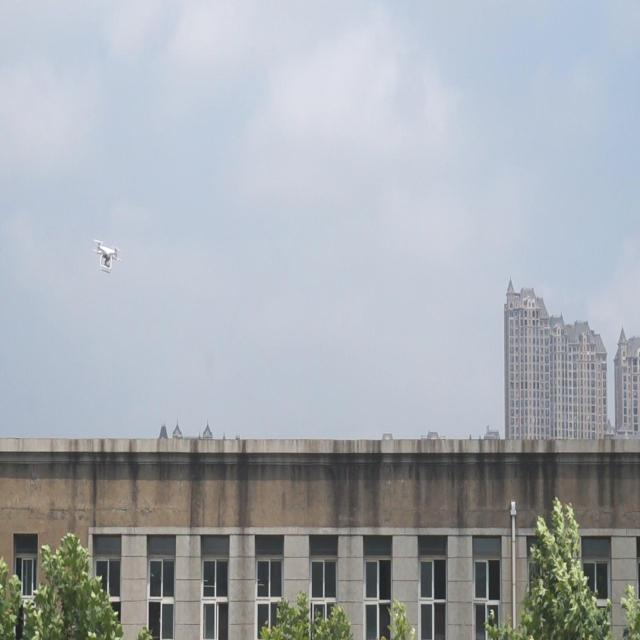drone: (90, 238, 126, 280)
